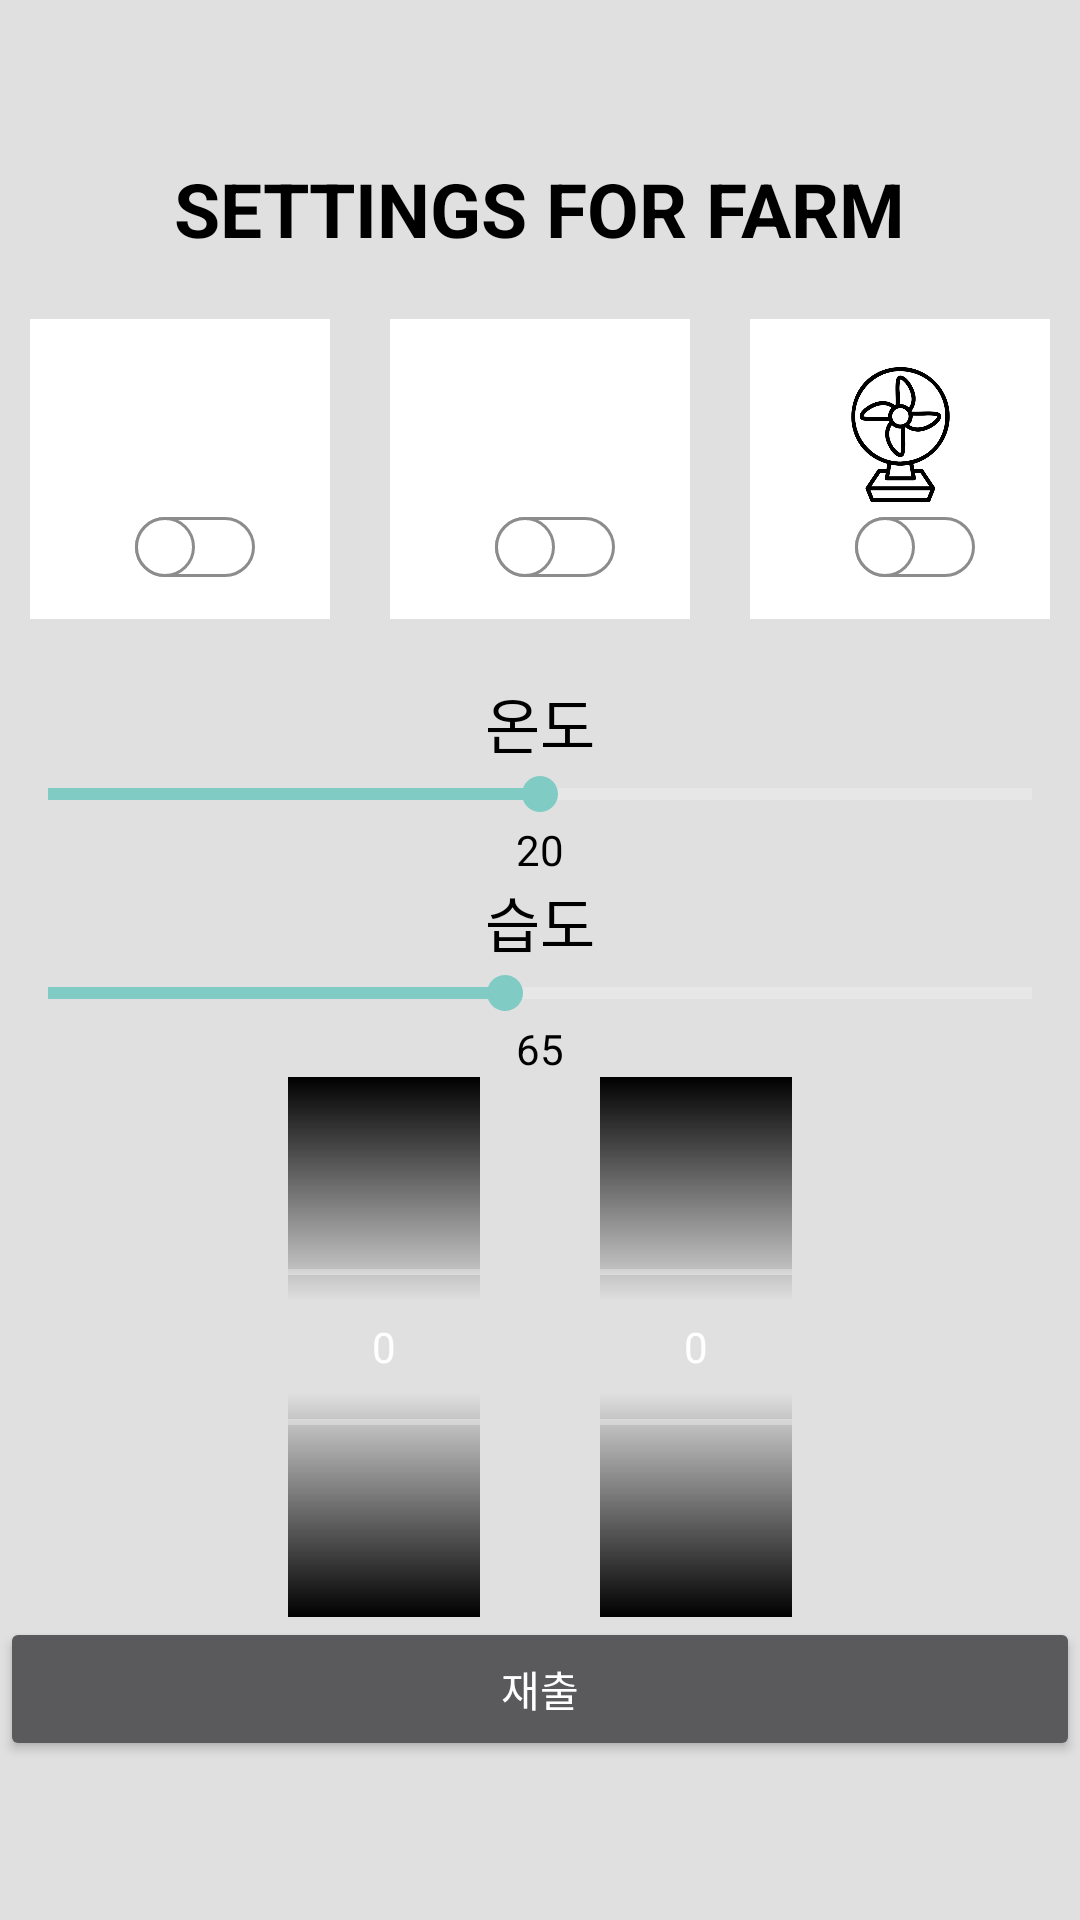

Icons on this 1080px×1920px Android screen, each with the point to tap as point (x, y):
vent: point (900, 434)
